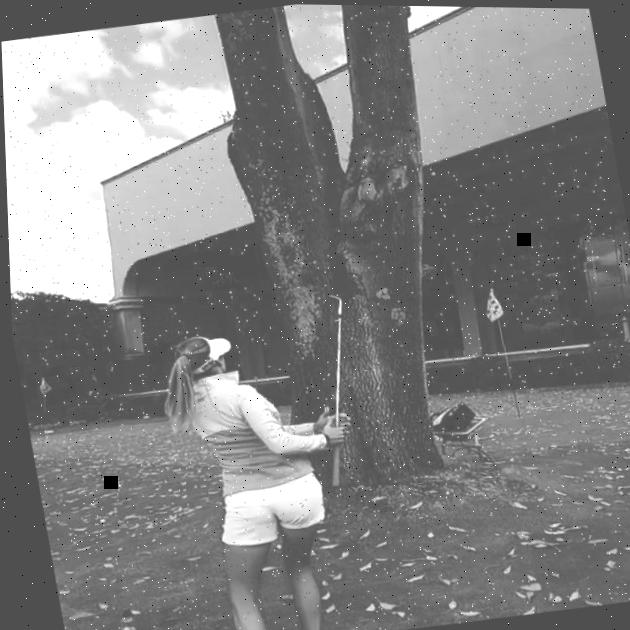ClubHead: (325, 291, 340, 299)
